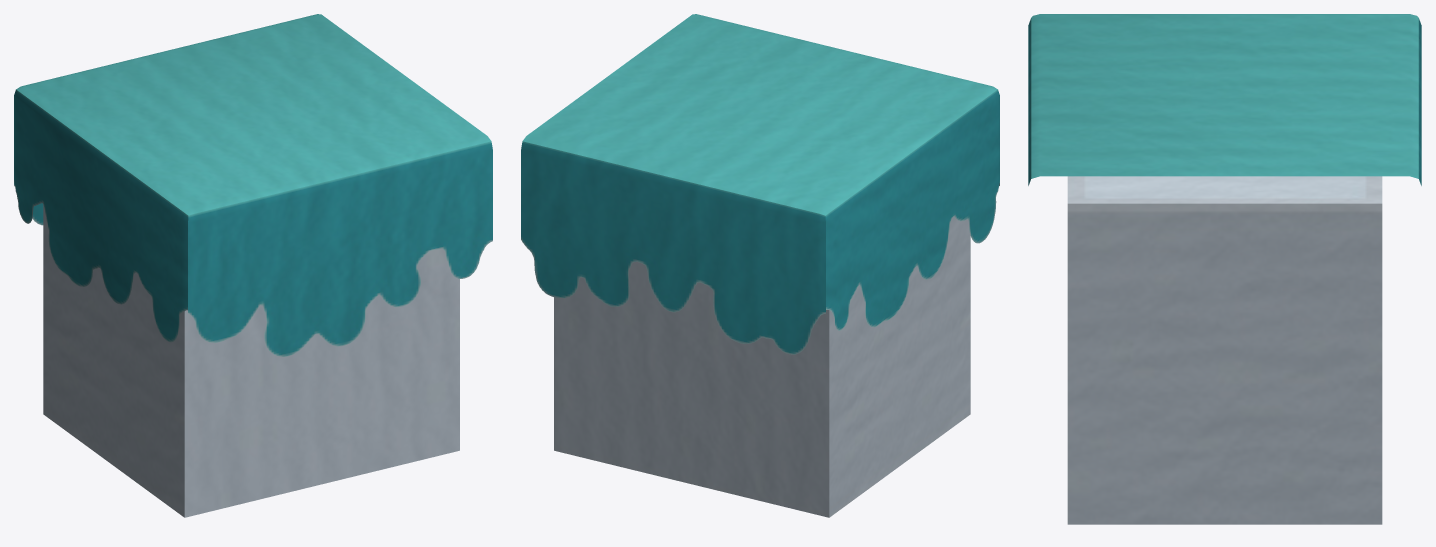
File: Tile1_12.fbx
3 views of the same model, side by side, from view 1: azimuth 30°, elevation 25°; view 2: azimuth 150°, elevation 25°; view 3: azimuth 270°, elevation 25° (orthographic). The views are drawn at different scales.
Visible parts, largest first — view 1: Tile1_12; view 2: Tile1_12; view 3: Tile1_12.
Part boxes in pixels (x1,y1,x2,y2): Tile1_12: (14, 14, 492, 517); Tile1_12: (521, 14, 999, 517); Tile1_12: (1028, 14, 1421, 524).
Bounding box in the file's own units: 1 × 1 × 1.
Materials: 1 (1 with a texture image).
